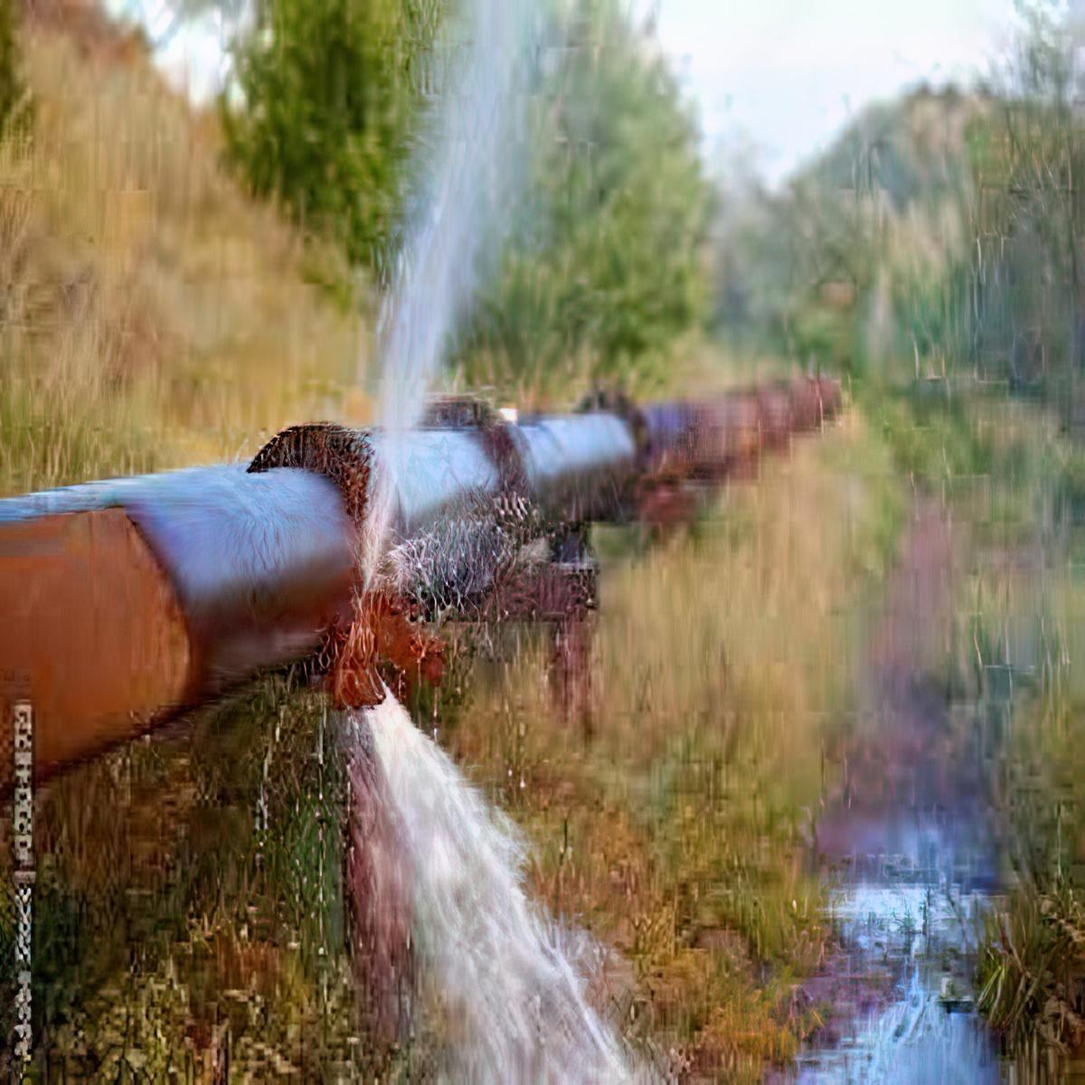pipe burst: (343, 0, 570, 623), (339, 660, 656, 1085)
